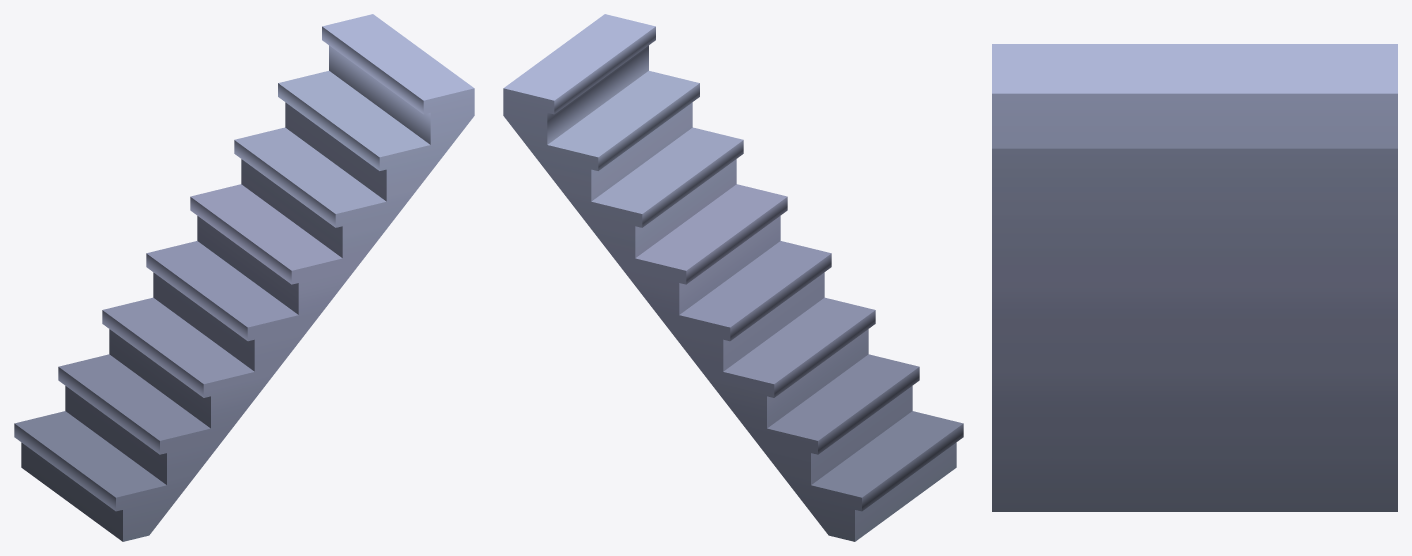
Rendered from stairs-stone.glb.
The picture shows the model from 3 angles, left to right: view 1: azimuth 30°, elevation 25°; view 2: azimuth 150°, elevation 25°; view 3: azimuth 270°, elevation 25°; orthographic projection. The views are drawn at different scales.
Parts seen in each view (by area): view 1: stairs-stone; view 2: stairs-stone; view 3: stairs-stone.
Boxes of the visible parts, box(x1,y1,x2,y2) form: stairs-stone: box(14, 14, 474, 541); stairs-stone: box(503, 14, 963, 541); stairs-stone: box(992, 44, 1397, 511).
Size of the model in its own units: 1.02 by 1 by 0.5.
Materials: 1 (1 with a texture image).
